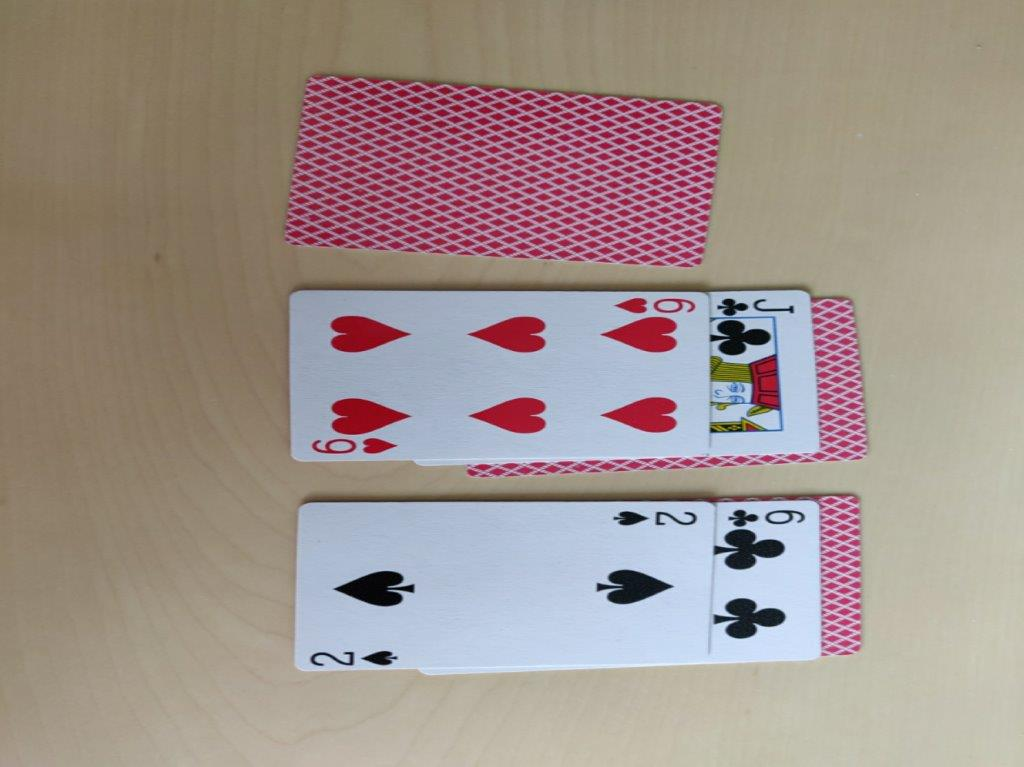2S: (608, 505, 705, 531)
6C: (723, 501, 810, 529)
6H: (604, 290, 703, 316)
BACK: (290, 76, 717, 268), (809, 290, 873, 460), (816, 494, 866, 657)
JC: (707, 293, 802, 318)
